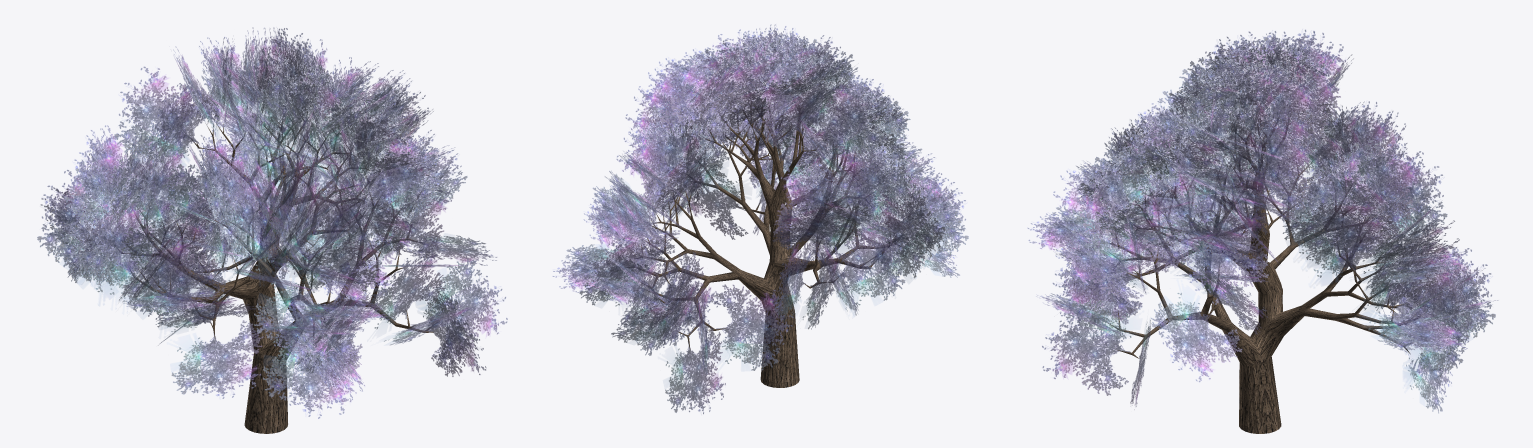
File: tree-jacaranda.glb
The picture shows the model from 3 angles, left to right: view 1: azimuth 30°, elevation 25°; view 2: azimuth 150°, elevation 25°; view 3: azimuth 270°, elevation 25°; orthographic projection. The views are drawn at different scales.
Parts seen in each view (by area): view 1: prim1001, prim0001; view 2: prim1001, prim0001; view 3: prim1001, prim0001.
Part boxes in pixels (<box>): prim1001: <box>37,27,507,418</box>; prim0001: <box>118,114,433,433</box>; prim1001: <box>552,24,968,413</box>; prim0001: <box>634,100,900,387</box>; prim1001: <box>1027,29,1498,413</box>; prim0001: <box>1106,115,1424,433</box>.
Size of the model in its own units: 15.25 by 14.47 by 17.02.
Materials: 2 (2 with a texture image).
